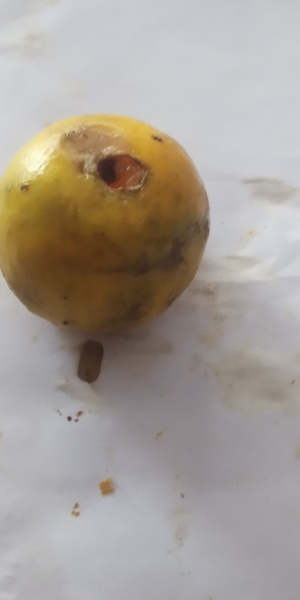BAD: (1, 116, 214, 339)
